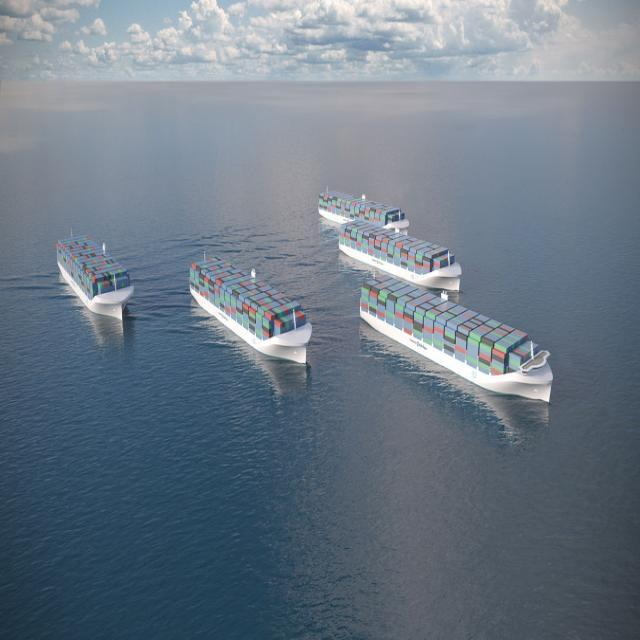ship2: (360, 270, 553, 403), (188, 264, 311, 368), (338, 219, 462, 292), (56, 224, 135, 321)
